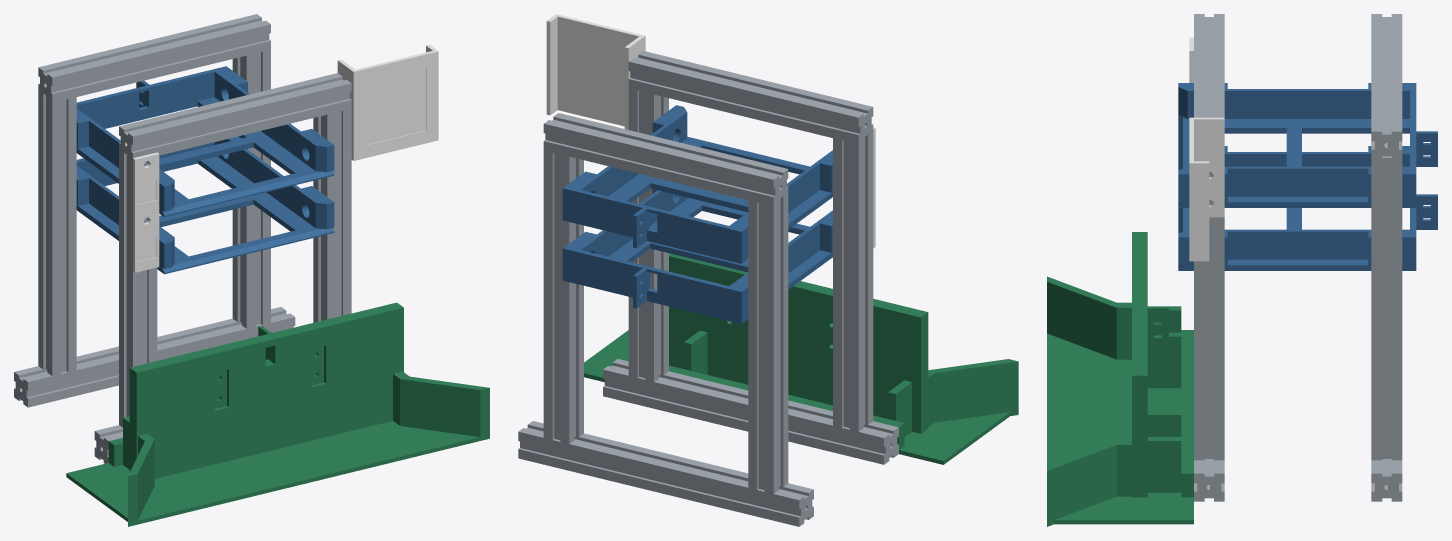
Rendered from spare.glb.
The picture shows the model from 3 angles, left to right: view 1: azimuth 30°, elevation 25°; view 2: azimuth 150°, elevation 25°; view 3: azimuth 270°, elevation 25°; orthographic projection. The views are drawn at different scales.
Parts seen in each view (by area): view 1: spare (×4); view 2: spare (×4); view 3: spare (×4).
Part boxes in pixels (x1,y1,x2,y2): spare (×4): (14, 14, 489, 526); spare (×4): (518, 14, 1018, 526); spare (×4): (1047, 14, 1437, 526).
Size of the model in its own units: 0.309 by 0.265 by 0.253.
